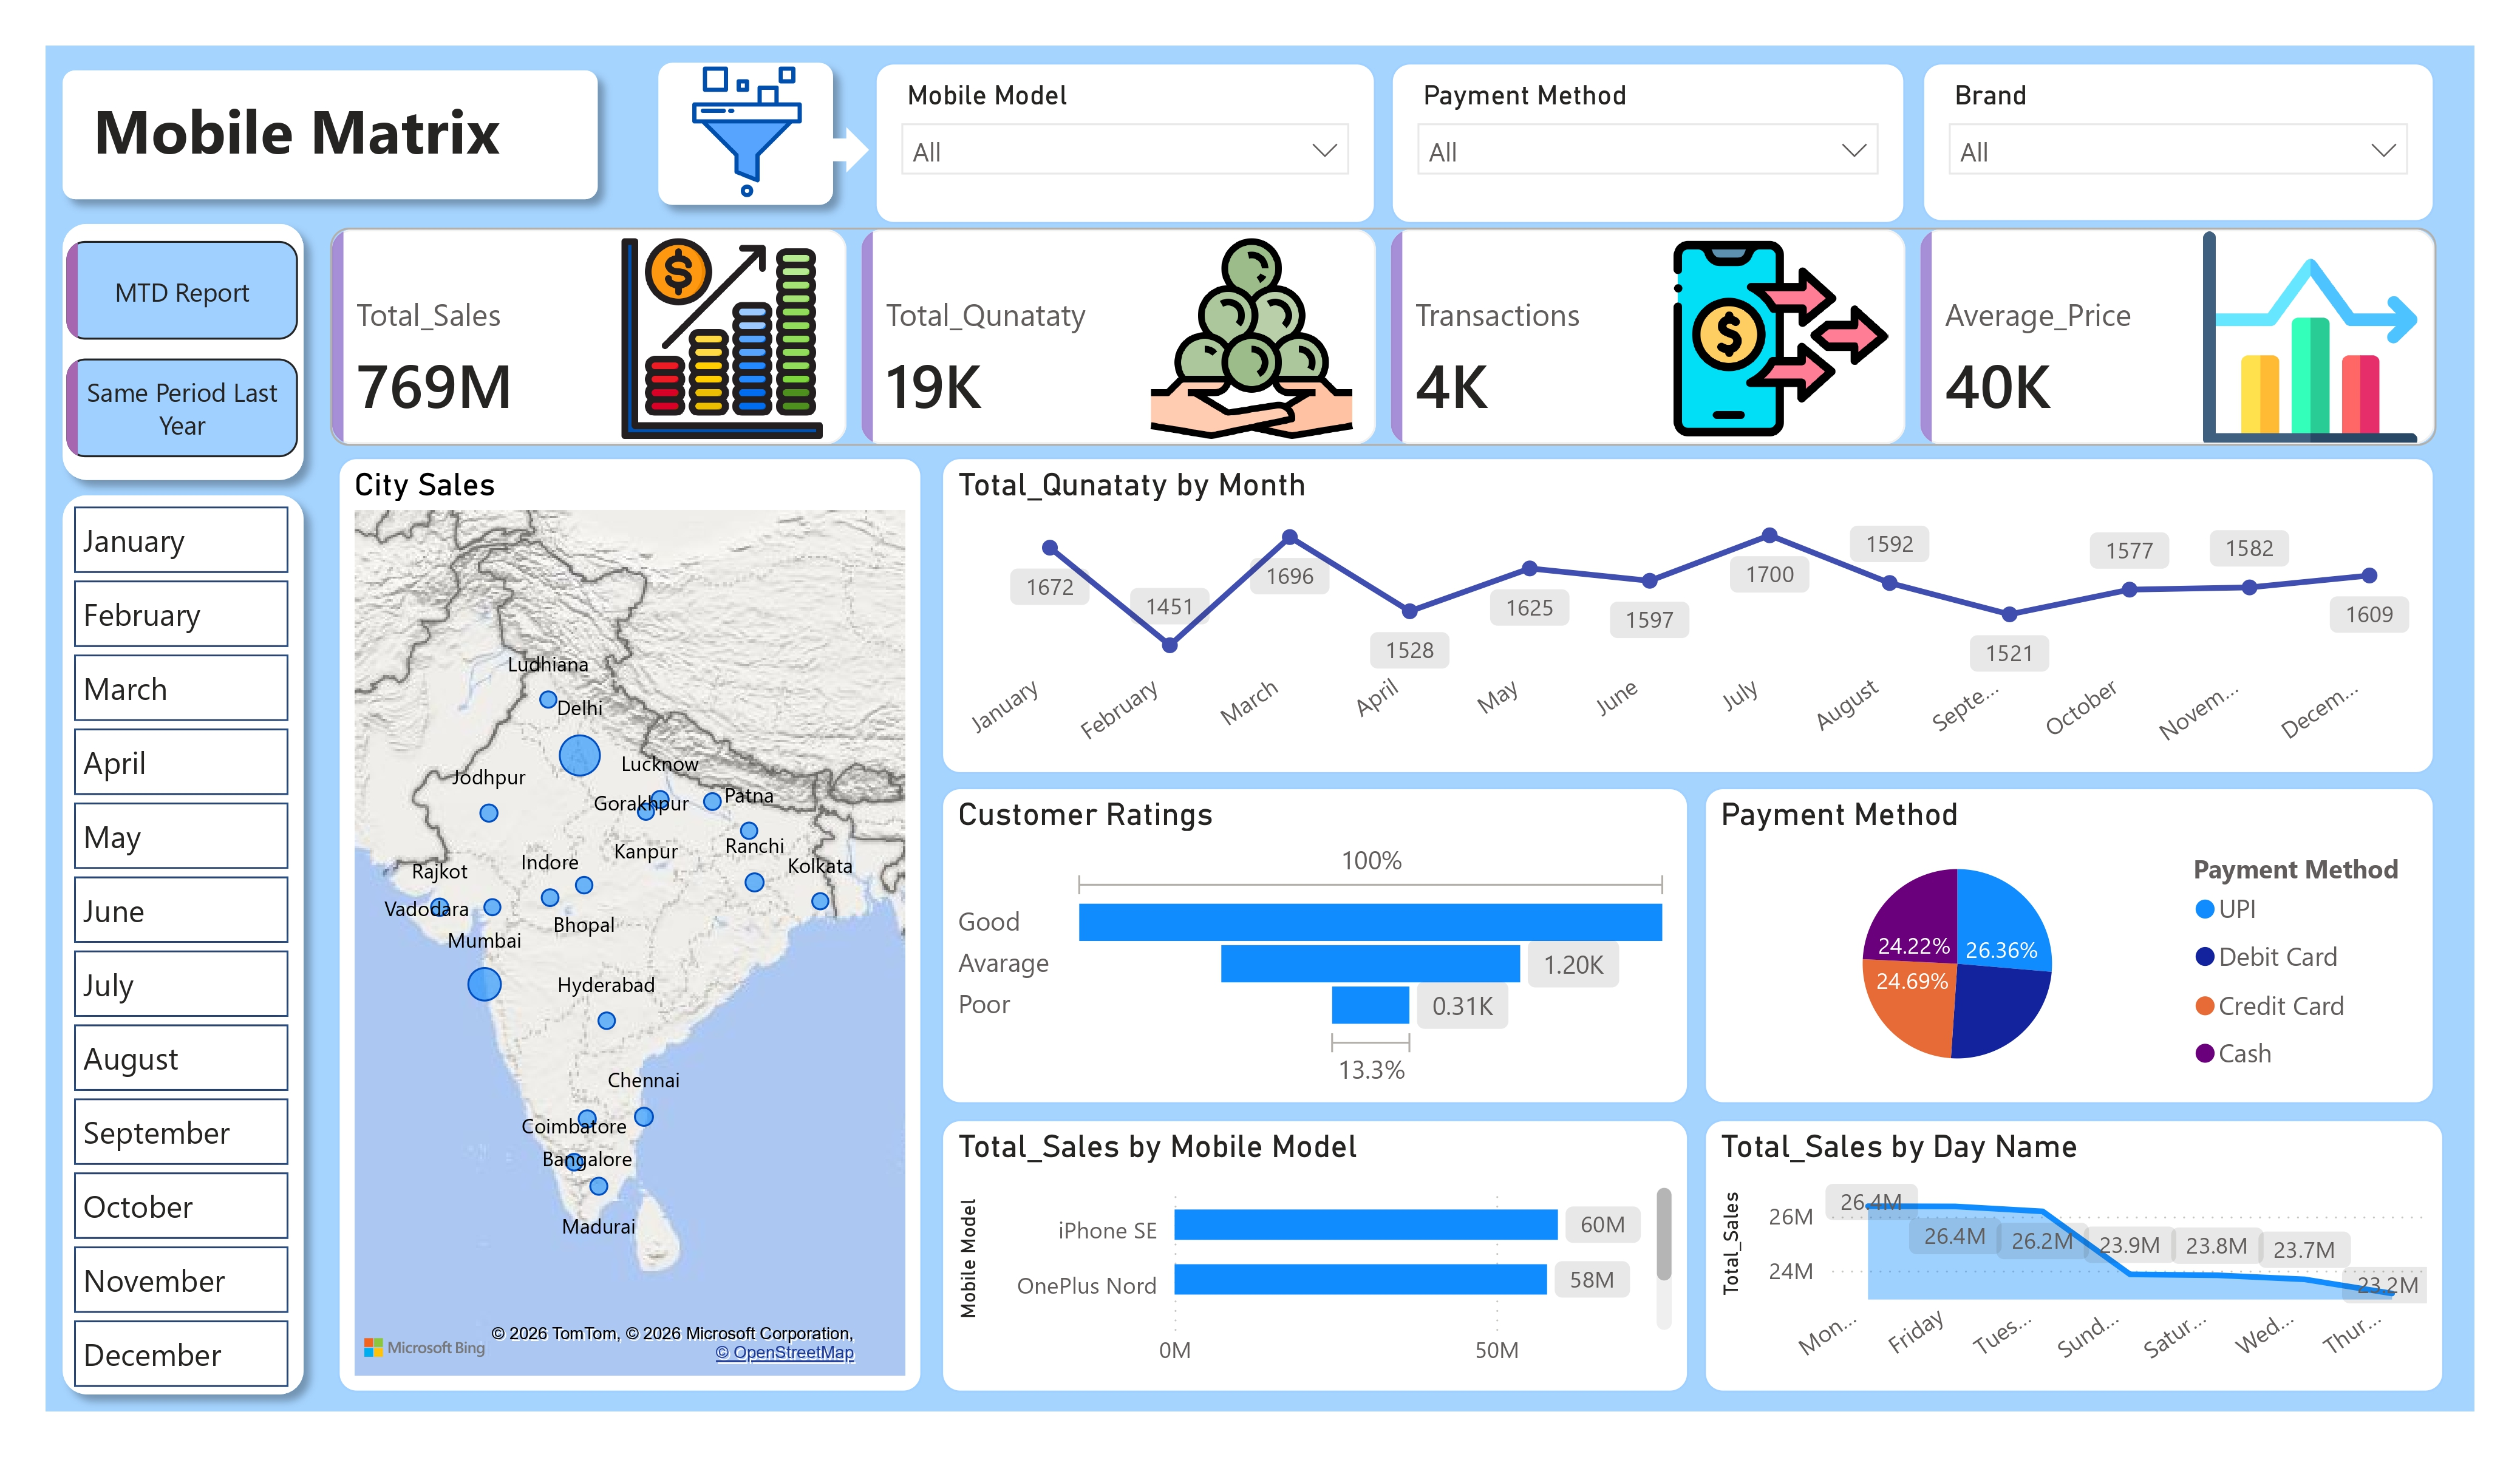

This screenshot's page, from the dashboard's own definition file:
{"tool":"powerbi","page":{"name":"Dashboard","canvas":[1280,720],"ordinal":0},"visuals":[{"type":"shape","box":[0,4.3,300,85.7],"z":0},{"type":"shape","box":[0,85,144.6,153.1],"z":1000},{"type":"shape","box":[0,228.2,144.6,491.8],"z":2000},{"type":"advancedSlicerVisual","fields":{"Values":["Custom_calendar.Date.Variation.Date Hierarchy.Month"]},"box":[9.9,238.1,123.3,481.9],"z":3000},{"type":"cardVisual","fields":{"Data":["Sales_Data.Total_Sales","Sales_Data.Total_Qunataty","Sales_Data.Transactions","Sales_Data.Average_Price"]},"box":[133.2,79.4,1146.6,148.8],"z":4000},{"type":"slicer","fields":{"Values":["Sales_Data.Mobile Model"]},"box":[437.1,8.6,264.3,85.7],"z":5000},{"type":"slicer","fields":{"Values":["Sales_Data.Payment Method"]},"box":[708.6,8.6,271.4,85.7],"z":6000},{"type":"slicer","fields":{"Values":["Sales_Data.Brand"]},"box":[988.6,8.6,270,84.3],"z":7000},{"type":"shape","box":[314.3,0,110,92.9],"z":8000},{"type":"image","box":[314.3,10,110,71.4],"z":9000},{"type":"shape","box":[395.7,42.9,38.6,24.3],"z":10000},{"type":"textbox","box":[20,17.1,258.6,61.4],"z":11000},{"type":"map","title":"City Sales","fields":{"Category":["Sales_Data.City"],"Size":["Sales_Data.Total_Sales"]},"box":[154.5,216.9,307.6,493.2],"z":12000},{"type":"lineChart","fields":{"Category":["Custom_calendar.Date.Variation.Date Hierarchy.Month"],"Y":["Sales_Data.Total_Qunataty"]},"box":[472,216.9,786.6,167.2],"z":13000},{"type":"funnel","title":"Customer Ratings","fields":{"Category":["Sales_Data.Rating Status"],"Y":["CountNonNull(Sales_Data.Customer Ratings)"]},"box":[472,391.2,394,167.2],"z":14000},{"type":"pieChart","title":"Payment Method","fields":{"Category":["Sales_Data.Payment Method"],"Y":["Sales_Data.Transactions"]},"box":[874.5,391.2,384.1,167.2],"z":15000},{"type":"barChart","fields":{"Category":["Sales_Data.Mobile Model"],"Y":["Sales_Data.Total_Sales"]},"box":[472,565.5,394,144.6],"z":16000},{"type":"areaChart","fields":{"Category":["Custom_calendar.Day Name"],"Y":["Sales_Data.Total_Sales"]},"box":[874.5,565.5,389.8,144.6],"z":17000},{"type":"pageNavigator","box":[11.3,103.5,121.9,113.4],"z":18000}]}

Visuals, with their boxes on the page's 1280x720 design canvas (x1, y1, x2, y2). These are canvas units, not pixel positions in the 2520x1457 screenshot, which may show the page scaled, cropped or inside an application window:
shape: <region>0, 4, 300, 90</region>
shape: <region>0, 85, 145, 238</region>
shape: <region>0, 228, 145, 720</region>
advancedSlicerVisual - Custom_calendar.Date.Variation.Date Hierarchy.Month: <region>10, 238, 133, 720</region>
cardVisual - Sales_Data.Total_Sales x Sales_Data.Total_Qunataty: <region>133, 79, 1280, 228</region>
slicer - Sales_Data.Mobile Model: <region>437, 9, 701, 94</region>
slicer - Sales_Data.Payment Method: <region>709, 9, 980, 94</region>
slicer - Sales_Data.Brand: <region>989, 9, 1259, 93</region>
shape: <region>314, 0, 424, 93</region>
image: <region>314, 10, 424, 81</region>
shape: <region>396, 43, 434, 67</region>
textbox: <region>20, 17, 279, 78</region>
"City Sales" map: <region>154, 217, 462, 710</region>
lineChart - Custom_calendar.Date.Variation.Date Hierarchy.Month x Sales_Data.Total_Qunataty: <region>472, 217, 1259, 384</region>
"Customer Ratings" funnel: <region>472, 391, 866, 558</region>
"Payment Method" pieChart: <region>874, 391, 1259, 558</region>
barChart - Sales_Data.Mobile Model x Sales_Data.Total_Sales: <region>472, 566, 866, 710</region>
areaChart - Custom_calendar.Day Name x Sales_Data.Total_Sales: <region>874, 566, 1264, 710</region>
pageNavigator: <region>11, 104, 133, 217</region>
